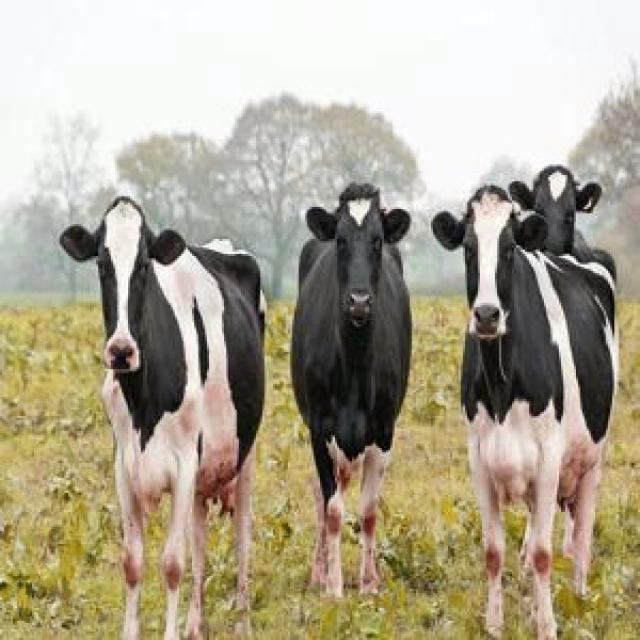cow: (60, 198, 264, 640), (434, 188, 616, 640), (292, 184, 411, 596)
